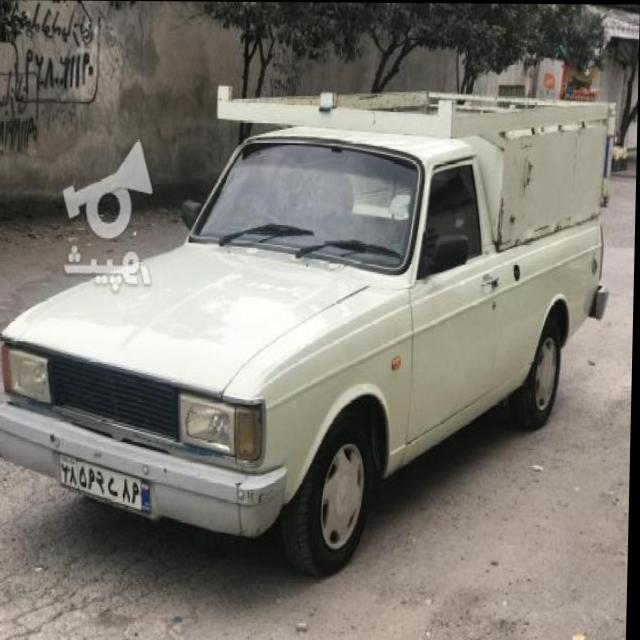licence: (61, 453, 163, 509)
